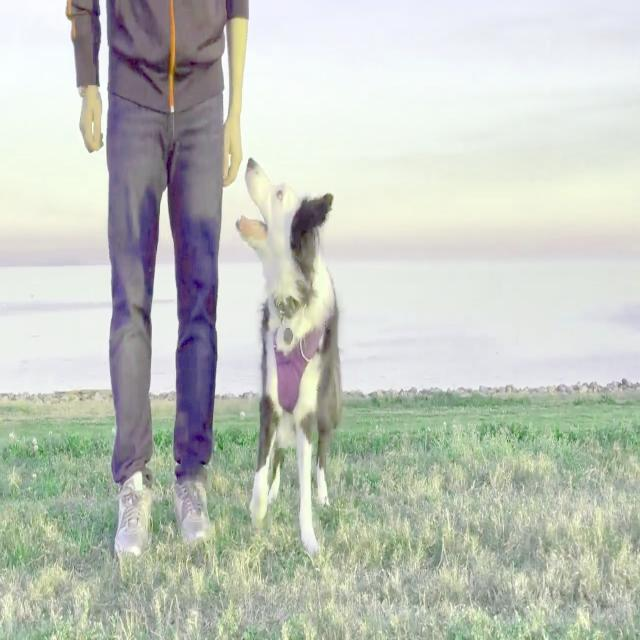Unleashed_Dog: (146, 102, 341, 555)
